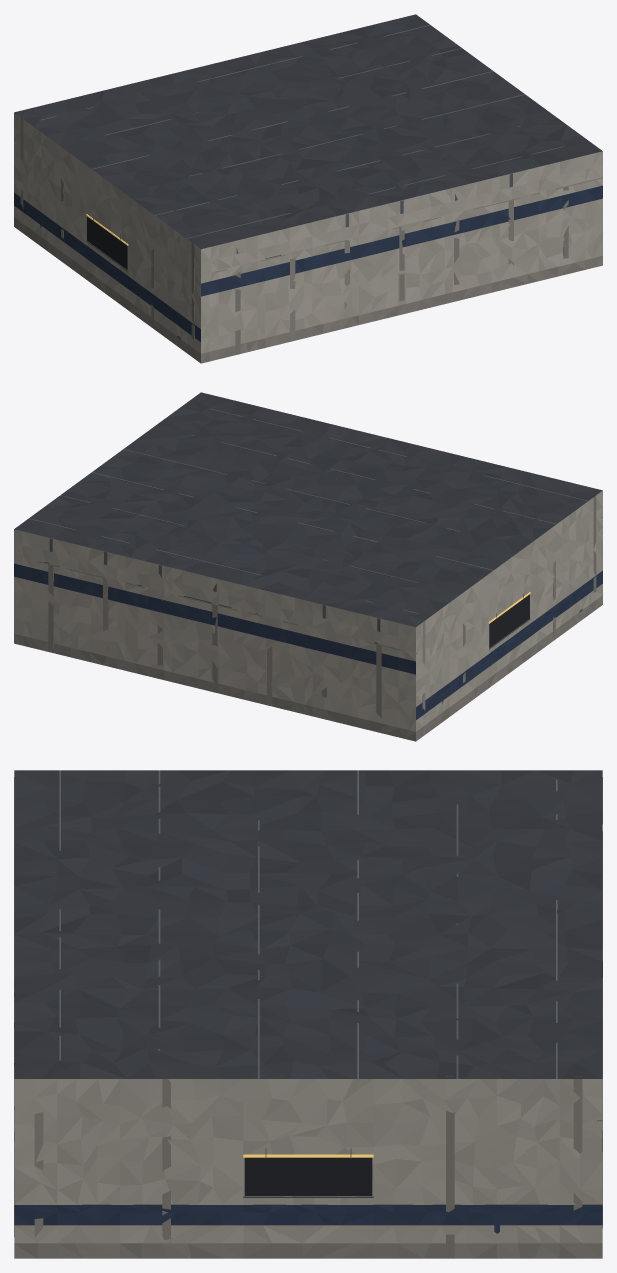
File: arena.glb
3 renders of one model, top to bottom at view 1: azimuth 30°, elevation 25°; view 2: azimuth 150°, elevation 25°; view 3: azimuth 270°, elevation 25°, orthographic. The views are drawn at different scales.
Visible parts, largest first — view 1: ceiling, walls, trusses, scoreboard_frames; view 2: ceiling, walls, trusses, scoreboard_frames; view 3: ceiling, walls, scoreboard_frames, trusses.
Part boxes in pixels (x1=…): ceiling: x1=14, y1=14, x2=602, y2=249; walls: x1=14, y1=51, x2=602, y2=363; trusses: x1=41, y1=25, x2=563, y2=253; scoreboard_frames: x1=86, y1=214, x2=128, y2=271; ceiling: x1=14, y1=392, x2=602, y2=627; walls: x1=14, y1=490, x2=602, y2=741; trusses: x1=29, y1=409, x2=587, y2=631; scoreboard_frames: x1=488, y1=592, x2=530, y2=649; ceiling: x1=14, y1=770, x2=602, y2=1078; walls: x1=14, y1=777, x2=602, y2=1258; scoreboard_frames: x1=243, y1=1148, x2=373, y2=1197; trusses: x1=59, y1=770, x2=557, y2=1078.
Bounding box in the file's own units: 51.66 × 14.09 × 41.53.
